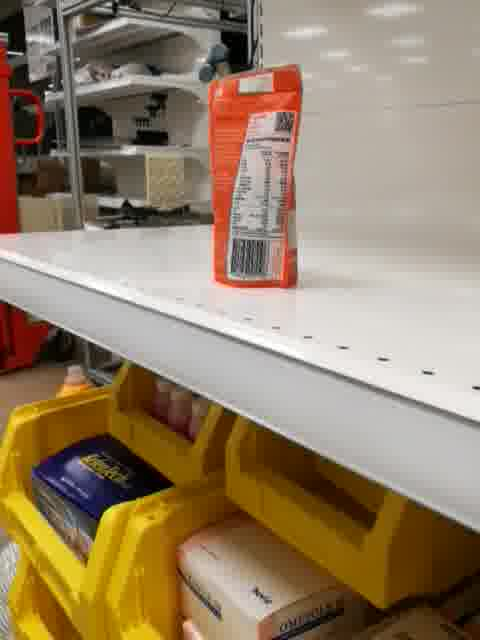whitechia: (205, 64, 310, 291)
